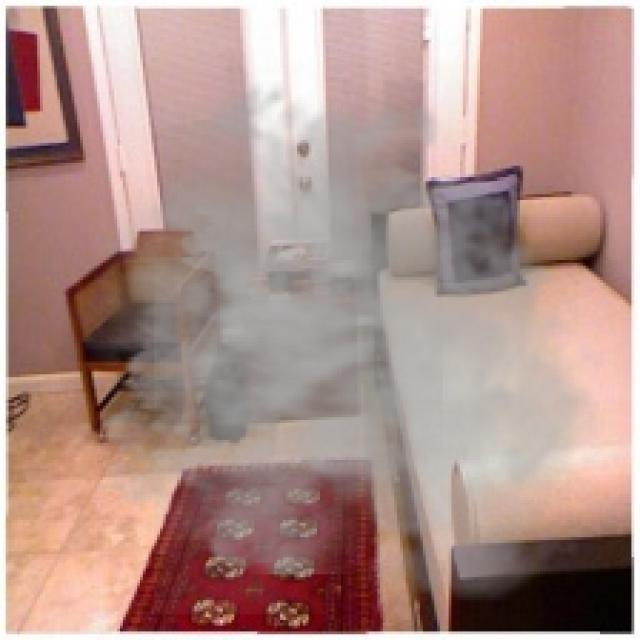Smoke: (57, 66, 617, 614)
